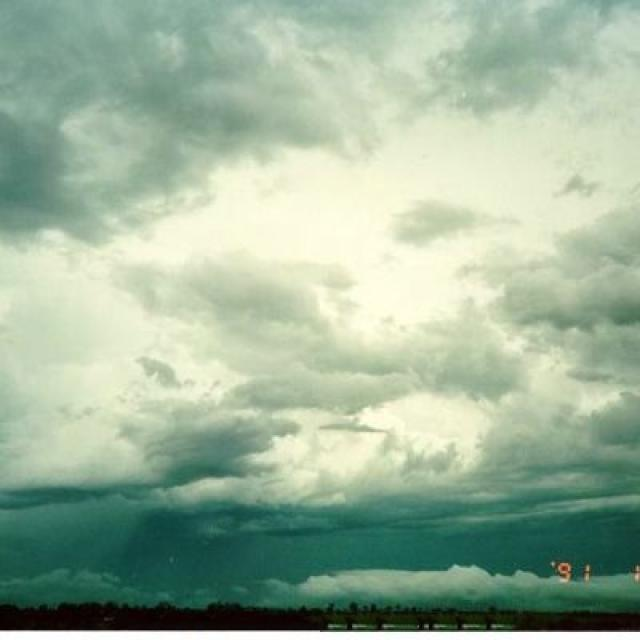St: (3, 41, 640, 530)
